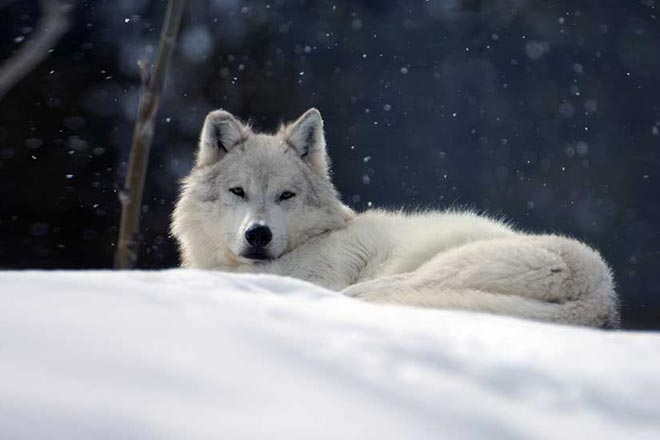wolf: (168, 104, 630, 323)
